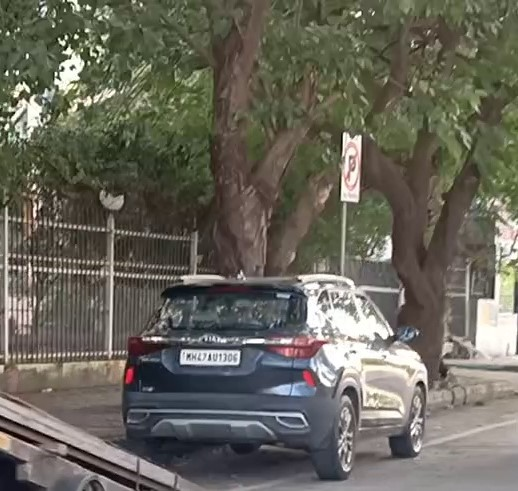MH47AU1306: (178, 349, 241, 366)
